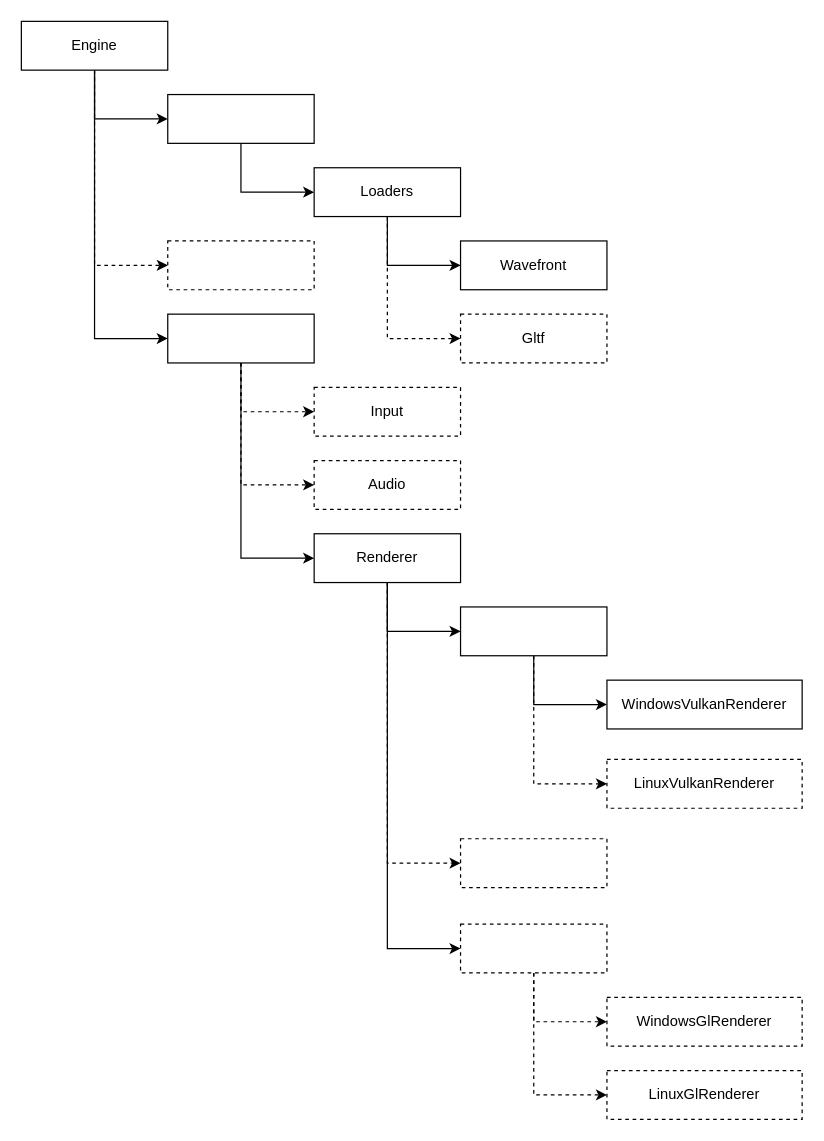
Image size: 824x1141. Some labels were removed from this diagram. The shapes that lost their labels are listed below. From the top down, each one's centre as x and y in pixels, then its label:
(x=240, y=118): Resources
(x=240, y=265): Physics
(x=240, y=338): Platform
(x=533, y=631): VulkanRenderer
(x=533, y=863): DxRenderer
(x=533, y=948): GlRenderer
